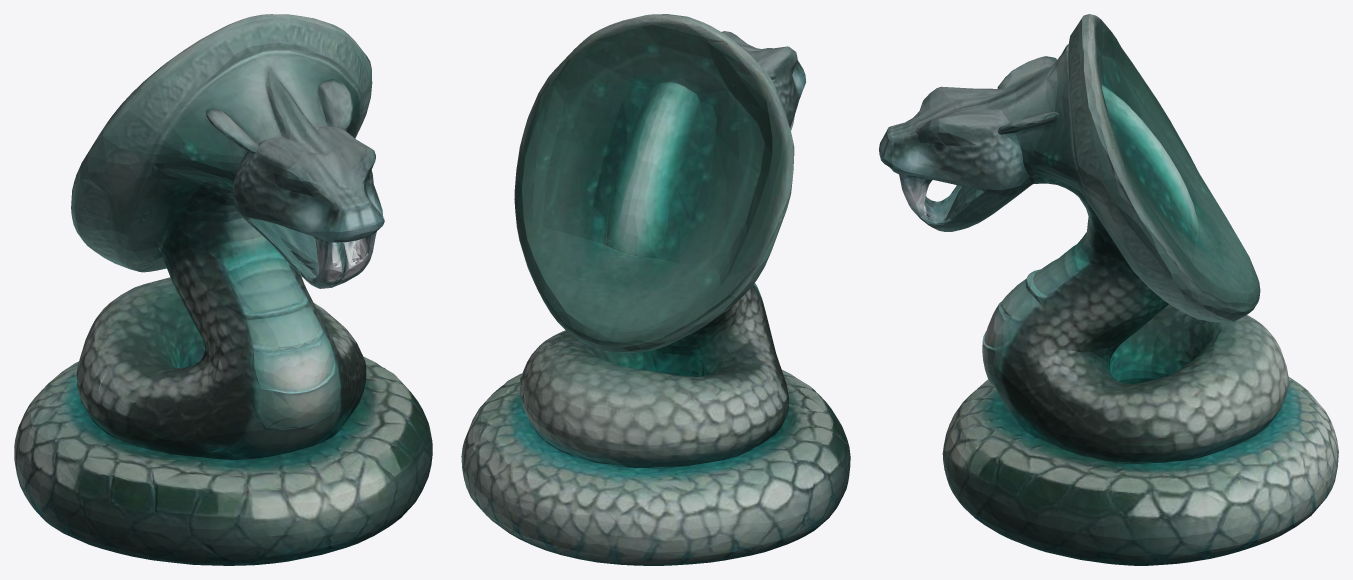
File: glassSerpent.glb
3 renders of one model, left to right at view 1: azimuth 30°, elevation 25°; view 2: azimuth 150°, elevation 25°; view 3: azimuth 270°, elevation 25°, orthographic. The views are drawn at different scales.
Visible parts, largest first — view 1: world; view 2: world; view 3: world.
Part boxes in pixels (x1=…): world: x1=14, y1=14, x2=432, y2=565; world: x1=461, y1=14, x2=850, y2=565; world: x1=879, y1=14, x2=1338, y2=565.
Size of the model in its own units: 0.6784 by 0.8796 by 0.7855.
1 material, 1 textured.
